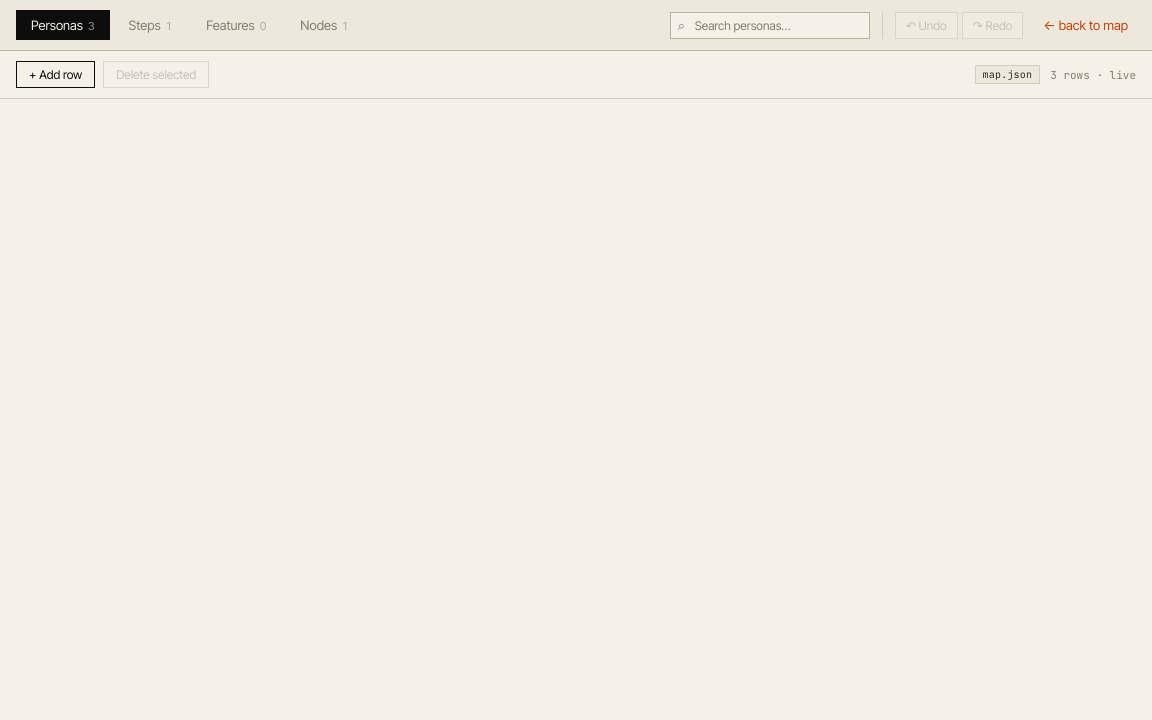
Scenario: DatabasePanel grid search › filters the grid and shows an "N of M" count (Personas tab)
Check: the text "map.json 3 rows · live" is shown, box left=975, top=65, right=1136, bottom=84
Type "front" into the field named "search rows". click: (770, 25)
box: left=670, top=12, right=870, bottom=38
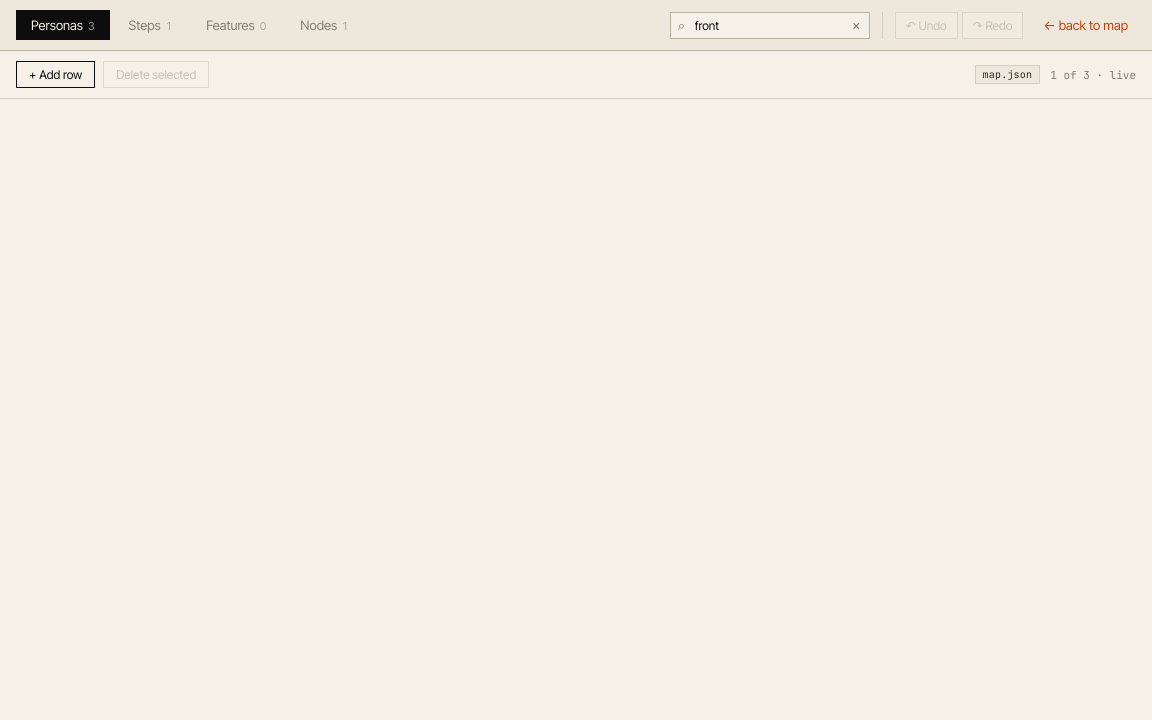
Check: the text "map.json 1 of 3 · live" is shown, box left=975, top=65, right=1136, bottom=84
